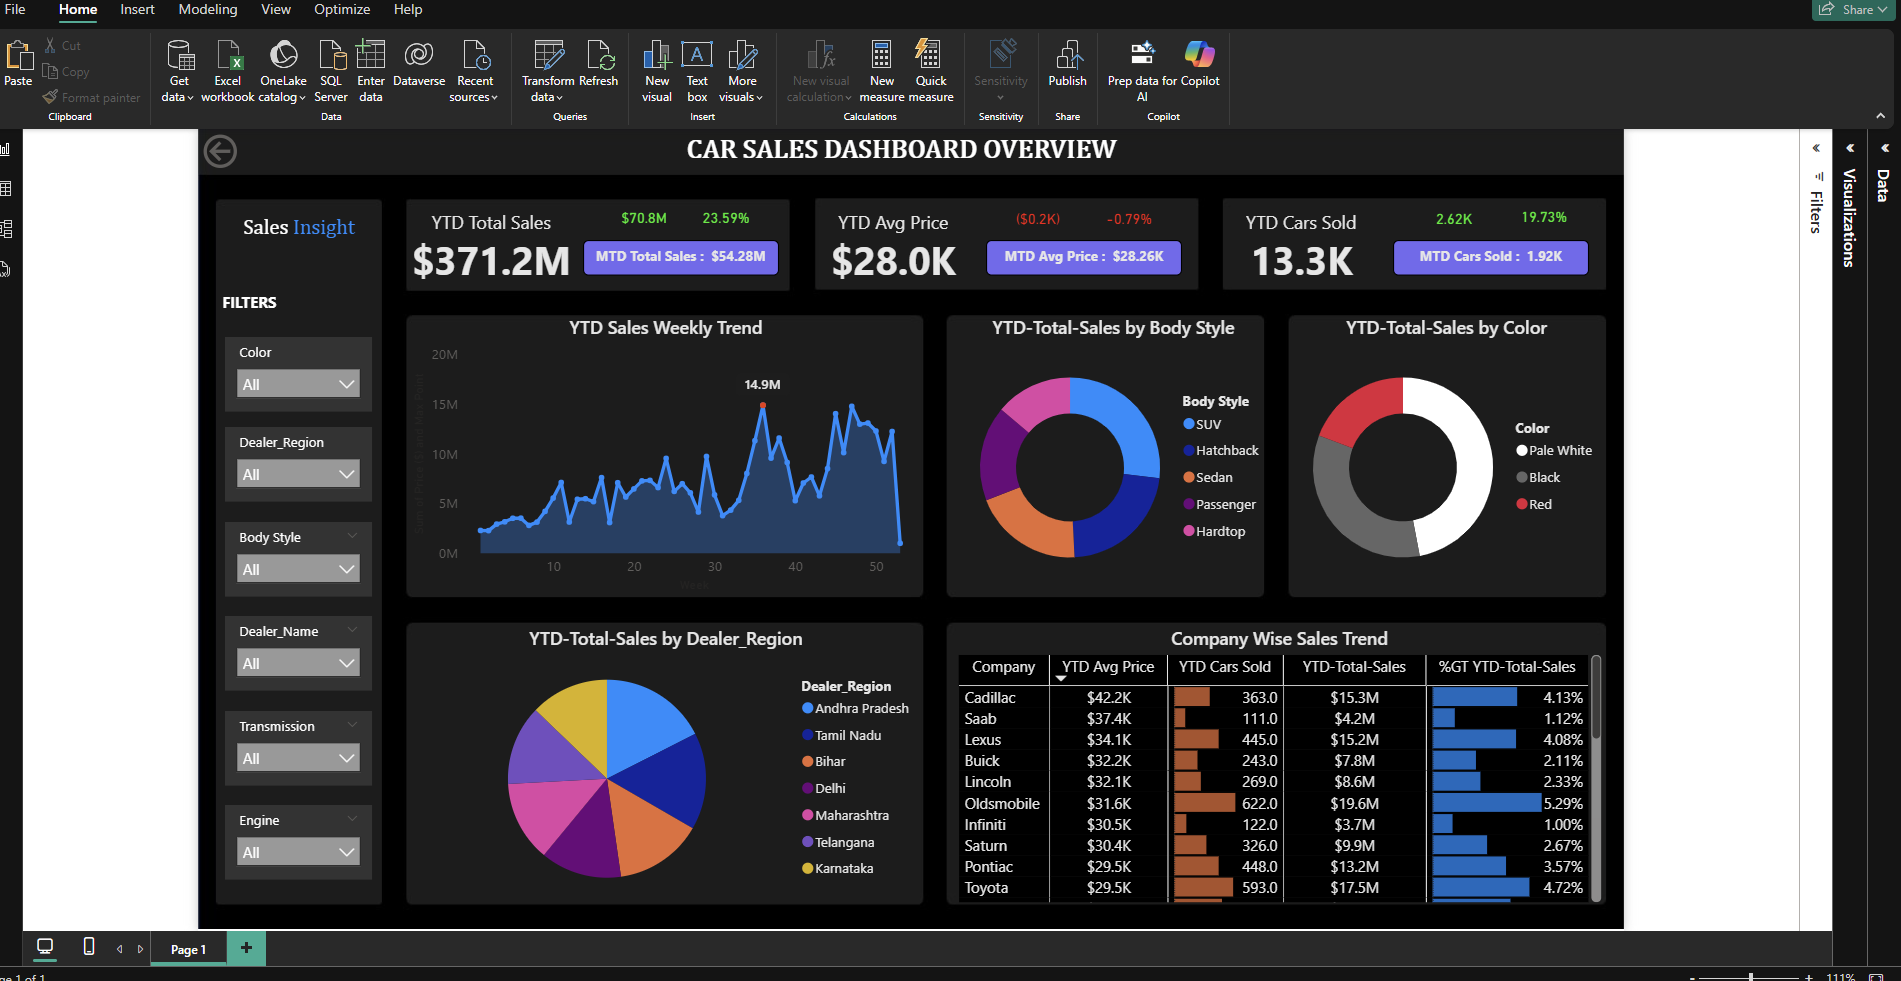

What the dashboard file says about the page in this screenshot:
{"tool":"powerbi","page":{"name":"Page 1","canvas":[1280,720],"ordinal":0},"visuals":[{"type":"card","title":"YTD  Total Sales","fields":{"Values":["car_data.YTD-Total-Sales"]},"box":[173,73,180,69],"z":0},{"type":"card","fields":{"Values":["car_data.Sales Difference"]},"box":[360,65,81,32],"z":1000},{"type":"card","fields":{"Values":["car_data.YOU Sales Growth"]},"box":[434,65,81,32],"z":2000},{"type":"card","fields":{"Values":["car_data.MTD KPI"]},"box":[346,100,176,32],"z":3000},{"type":"card","title":"YTD  Avg Price","fields":{"Values":["car_data.YTD Avg Price"]},"box":[534,73,180,69],"z":4000},{"type":"card","fields":{"Values":["car_data.Avg Price Difference"]},"box":[714,65,81,35],"z":5000},{"type":"card","fields":{"Values":["car_data.YOU Avg Price Growth"]},"box":[795,65,81,35],"z":6000},{"type":"card","fields":{"Values":["car_data.MTD Avg Price KPI"]},"box":[707,100,176,32],"z":7000},{"type":"card","title":"YTD  Cars Sold","fields":{"Values":["car_data.YTD Cars Sold"]},"box":[900,73,180,69],"z":8000},{"type":"card","fields":{"Values":["car_data.Cars Sold Difference"]},"box":[1087,65,81,35],"z":9000},{"type":"card","fields":{"Values":["car_data.YOY Cars Sold Growth"]},"box":[1168,63,81,35],"z":10000},{"type":"card","fields":{"Values":["car_data.MTD  Cars Sold KPI"]},"box":[1073,100,176,32],"z":11000},{"type":"areaChart","title":"YTD  Sales Weekly Trend","fields":{"Category":["Calender Table.Week"],"Y":["Sum(car_data.Price ($))","car_data.Max Point"]},"box":[188,167,465,253],"z":12000},{"type":"donutChart","fields":{"Category":["car_data.Body Style"],"Y":["car_data.YTD-Total-Sales"]},"box":[677.3,167.3,290,252.7],"z":13000},{"type":"donutChart","fields":{"Y":["car_data.YTD-Total-Sales"],"Category":["car_data.Color"]},"box":[975.5,167.3,290,252.7],"z":14000},{"type":"tableEx","title":"Company Wise Sales Trend","fields":{"Values":["car_data.Company","car_data.YTD Avg Price","car_data.YTD Cars Sold","car_data.YTD-Total-Sales1","car_data.YTD-Total-Sales"]},"box":[677.3,446.4,588.2,252.7],"z":16000},{"type":"textbox","box":[433.6,0,458.2,49.1],"z":17000},{"type":"slicer","fields":{"Values":["car_data.Body Style"]},"box":[24.5,352.7,131.8,67.3],"z":18000},{"type":"actionButton","box":[0,0,100,40],"z":19000},{"type":"slicer","fields":{"Values":["car_data.Dealer_Name"]},"box":[24.5,437.3,131.8,67.3],"z":20000},{"type":"slicer","fields":{"Values":["car_data.Transmission"]},"box":[24.5,522.7,131.8,67.3],"z":21000},{"type":"slicer","fields":{"Values":["car_data.Engine"]},"box":[24.5,607.3,131.8,67.3],"z":22000},{"type":"textbox","box":[17.3,141.8,113.6,37.3],"z":23000},{"type":"slicer","fields":{"Values":["car_data.Dealer_Region"]},"box":[24.5,267.3,131.8,67.3],"z":24000},{"type":"slicer","fields":{"Values":["car_data.Color"]},"box":[24.5,186.4,131.8,67.3],"z":25000},{"type":"textbox","box":[21,73.6,140,48.2],"z":26000},{"type":"pieChart","fields":{"Category":["car_data.Dealer_Region"],"Y":["car_data.YTD-Total-Sales"]},"box":[187.6,446.2,465,253.2],"z":26001}]}

Visuals, with their boxes on the page's 1280x720 design canvas (x1, y1, x2, y2). These are canvas units, not pixel positions in the 1901x981 screenshot, which may show the page scaled, cropped or inside an application window:
"YTD  Total Sales" card: bbox=(173, 73, 353, 142)
card - car_data.Sales Difference: bbox=(360, 65, 441, 97)
card - car_data.YOU Sales Growth: bbox=(434, 65, 515, 97)
card - car_data.MTD KPI: bbox=(346, 100, 522, 132)
"YTD  Avg Price" card: bbox=(534, 73, 714, 142)
card - car_data.Avg Price Difference: bbox=(714, 65, 795, 100)
card - car_data.YOU Avg Price Growth: bbox=(795, 65, 876, 100)
card - car_data.MTD Avg Price KPI: bbox=(707, 100, 883, 132)
"YTD  Cars Sold" card: bbox=(900, 73, 1080, 142)
card - car_data.Cars Sold Difference: bbox=(1087, 65, 1168, 100)
card - car_data.YOY Cars Sold Growth: bbox=(1168, 63, 1249, 98)
card - car_data.MTD  Cars Sold KPI: bbox=(1073, 100, 1249, 132)
"YTD  Sales Weekly Trend" areaChart: bbox=(188, 167, 653, 420)
donutChart - car_data.Body Style x car_data.YTD-Total-Sales: bbox=(677, 167, 967, 420)
donutChart - car_data.YTD-Total-Sales x car_data.Color: bbox=(976, 167, 1266, 420)
"Company Wise Sales Trend" tableEx: bbox=(677, 446, 1266, 699)
textbox: bbox=(434, 0, 892, 49)
slicer - car_data.Body Style: bbox=(24, 353, 156, 420)
actionButton: bbox=(0, 0, 100, 40)
slicer - car_data.Dealer_Name: bbox=(24, 437, 156, 505)
slicer - car_data.Transmission: bbox=(24, 523, 156, 590)
slicer - car_data.Engine: bbox=(24, 607, 156, 675)
textbox: bbox=(17, 142, 131, 179)
slicer - car_data.Dealer_Region: bbox=(24, 267, 156, 335)
slicer - car_data.Color: bbox=(24, 186, 156, 254)
textbox: bbox=(21, 74, 161, 122)
pieChart - car_data.Dealer_Region x car_data.YTD-Total-Sales: bbox=(188, 446, 653, 699)
